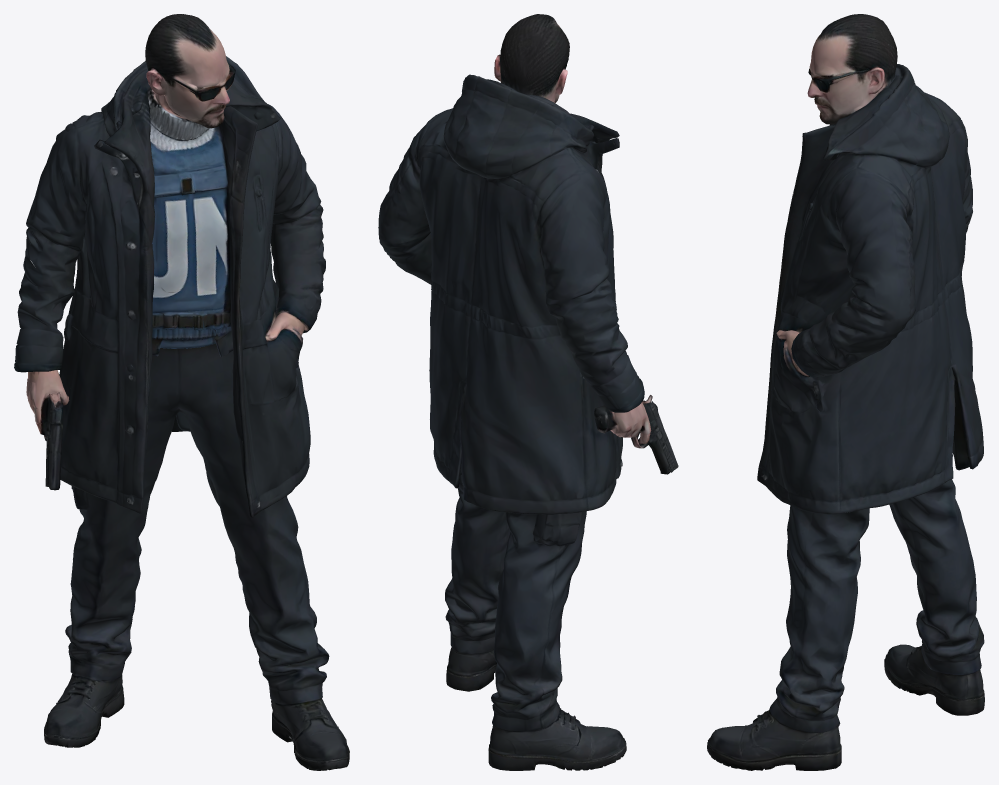
Rendered from peacekeeper.glb.
3 renders of one model, left to right at view 1: azimuth 30°, elevation 25°; view 2: azimuth 150°, elevation 25°; view 3: azimuth 270°, elevation 25°, orthographic. The views are drawn at different scales.
Parts seen in each view (by area): view 1: tripo_node_66391e50-19dc-4226-80fb-d8655c75fbfa; view 2: tripo_node_66391e50-19dc-4226-80fb-d8655c75fbfa; view 3: tripo_node_66391e50-19dc-4226-80fb-d8655c75fbfa.
Part boxes in pixels (x1,y1,x2,y2): tripo_node_66391e50-19dc-4226-80fb-d8655c75fbfa: [14, 14, 349, 770]; tripo_node_66391e50-19dc-4226-80fb-d8655c75fbfa: [378, 14, 678, 770]; tripo_node_66391e50-19dc-4226-80fb-d8655c75fbfa: [707, 14, 984, 770].
Bounding box in the file's own units: 0.4071 × 0.9794 × 0.3498.
Materials: 1 (1 with a texture image).
